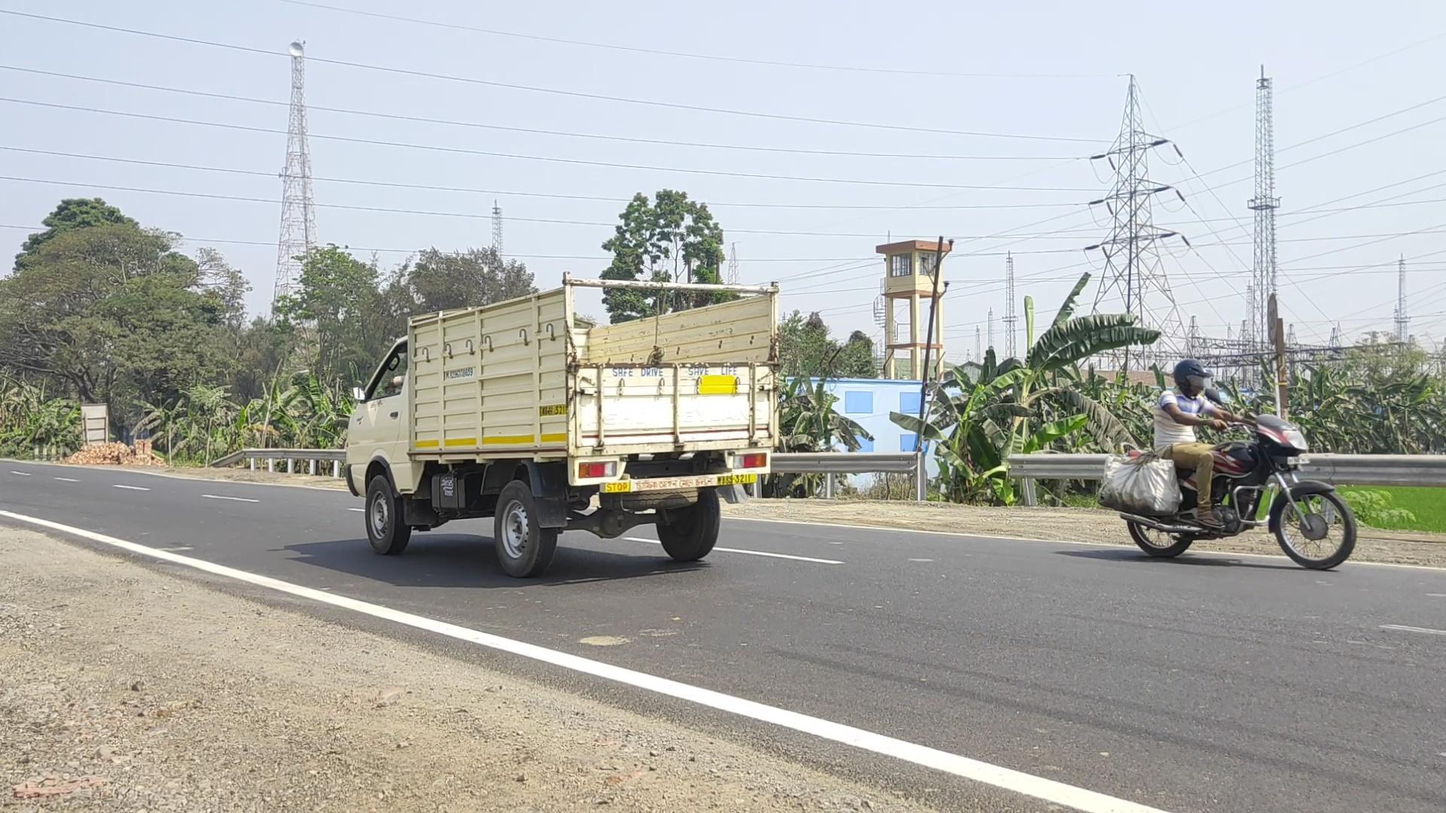bike: (1097, 360, 1357, 571)
van: (345, 272, 781, 578)
